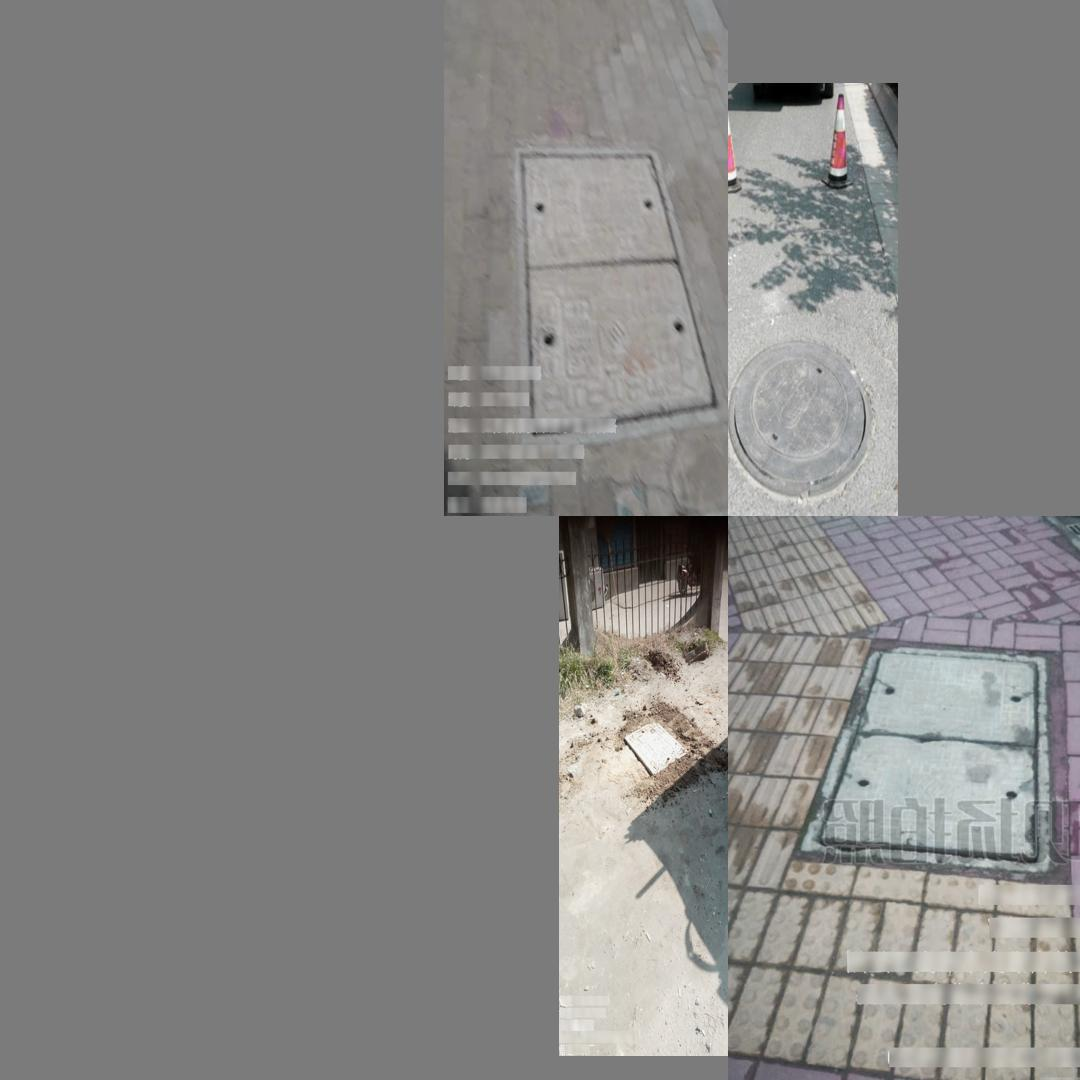good: (514, 144, 727, 450), (799, 645, 1048, 869), (728, 336, 876, 498), (624, 720, 687, 773)
